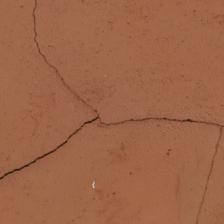Crack: (0, 0, 133, 169), (87, 0, 210, 145), (33, 55, 157, 87), (57, 60, 81, 154)
